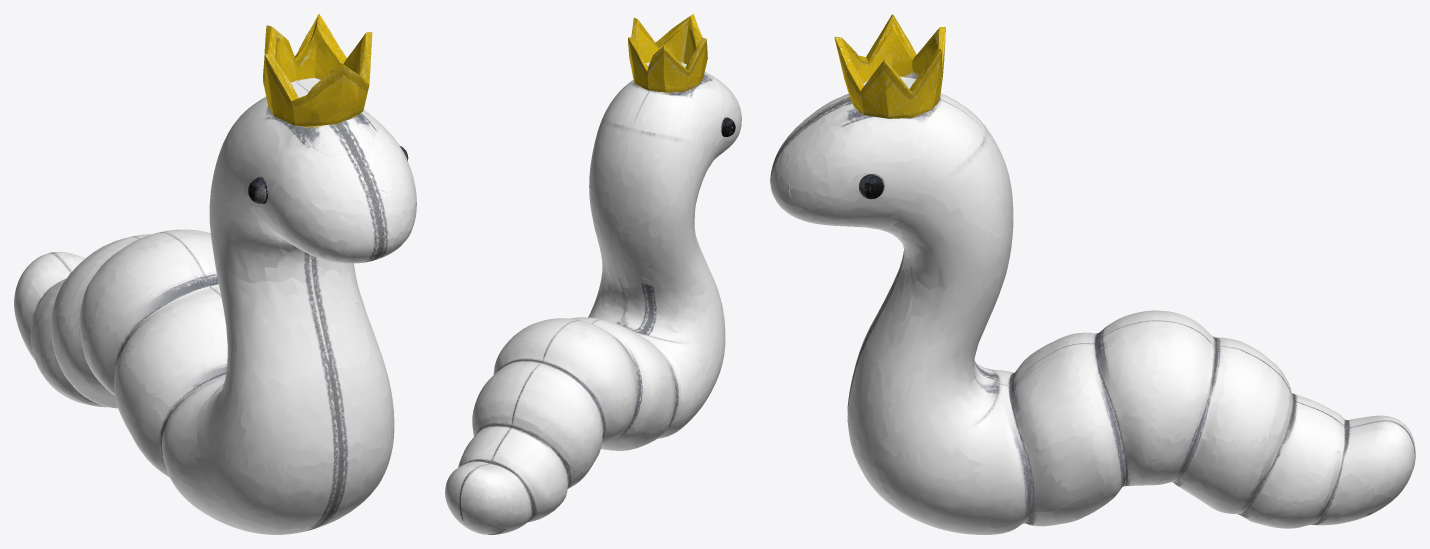
Rendered from krakozyabra.glb.
The picture shows the model from 3 angles, left to right: view 1: azimuth 30°, elevation 25°; view 2: azimuth 150°, elevation 25°; view 3: azimuth 270°, elevation 25°; orthographic projection. The views are drawn at different scales.
Visible parts, largest first — view 1: mesh_node; view 2: mesh_node; view 3: mesh_node.
Part boxes in pixels (box(x1,y1,x2,y2)): mesh_node: box(14, 14, 416, 534); mesh_node: box(445, 14, 741, 534); mesh_node: box(770, 14, 1415, 534).
Bounding box in the file's own units: 0.6077 × 1.58 × 1.9.
1 material, 1 textured.
